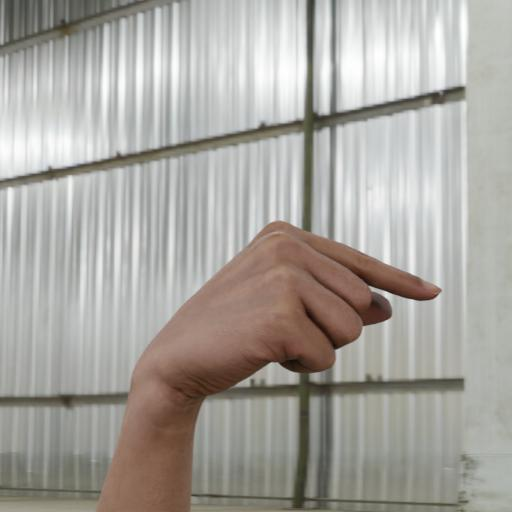G: (102, 214, 450, 410)
